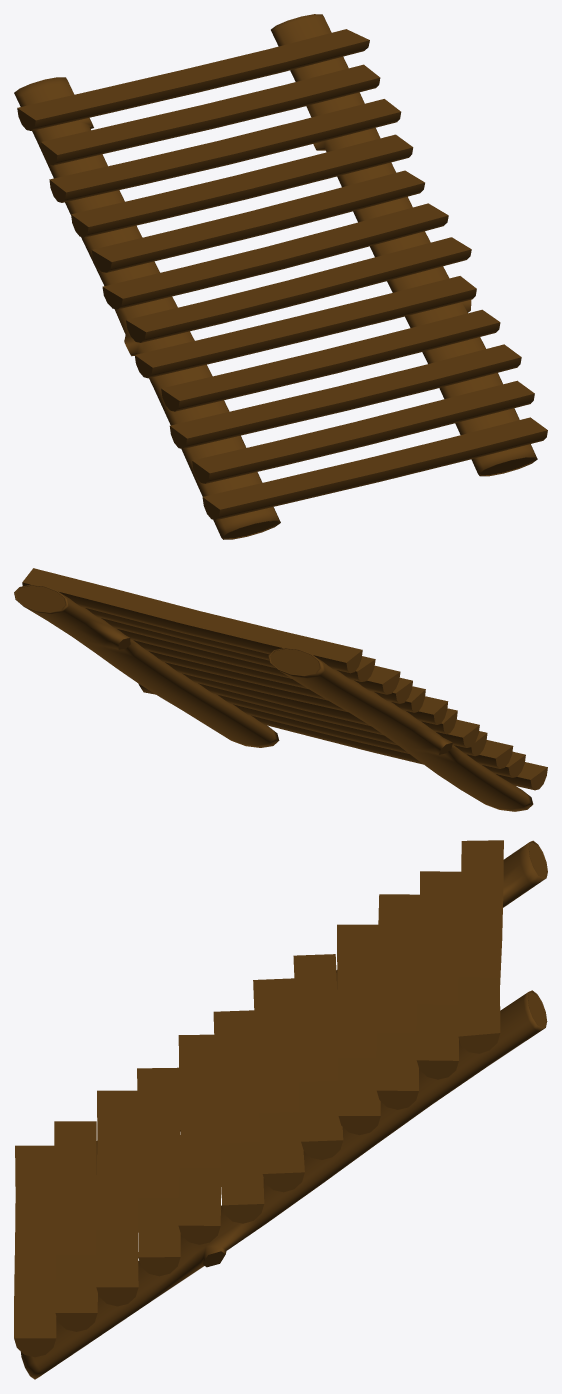
The model's file is big.glb.
3 views of the same model, one above another, from view 1: azimuth 30°, elevation 25°; view 2: azimuth 150°, elevation 25°; view 3: azimuth 270°, elevation 25° (orthographic). The views are drawn at different scales.
Parts seen in each view (by area): view 1: LogStaris_01_GEO; view 2: LogStaris_01_GEO; view 3: LogStaris_01_GEO.
Boxes of the visible parts, x1=… form: LogStaris_01_GEO: x1=14, y1=14, x2=547, y2=539; LogStaris_01_GEO: x1=14, y1=568, x2=547, y2=811; LogStaris_01_GEO: x1=14, y1=840, x2=547, y2=1379.
Bounding box in the file's own units: 2.08 × 1.82 × 2.35.
